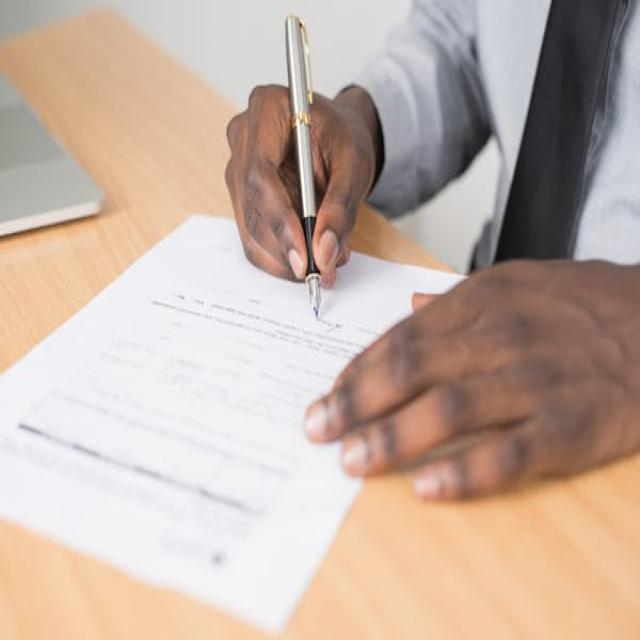pen: (281, 20, 334, 334)
